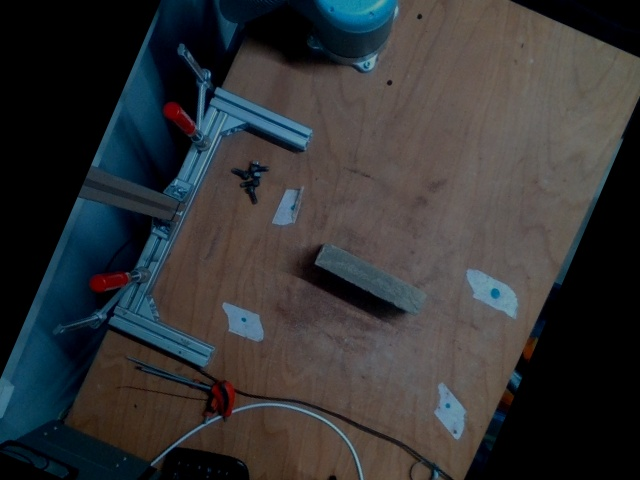brick-side: (314, 241, 423, 315)
